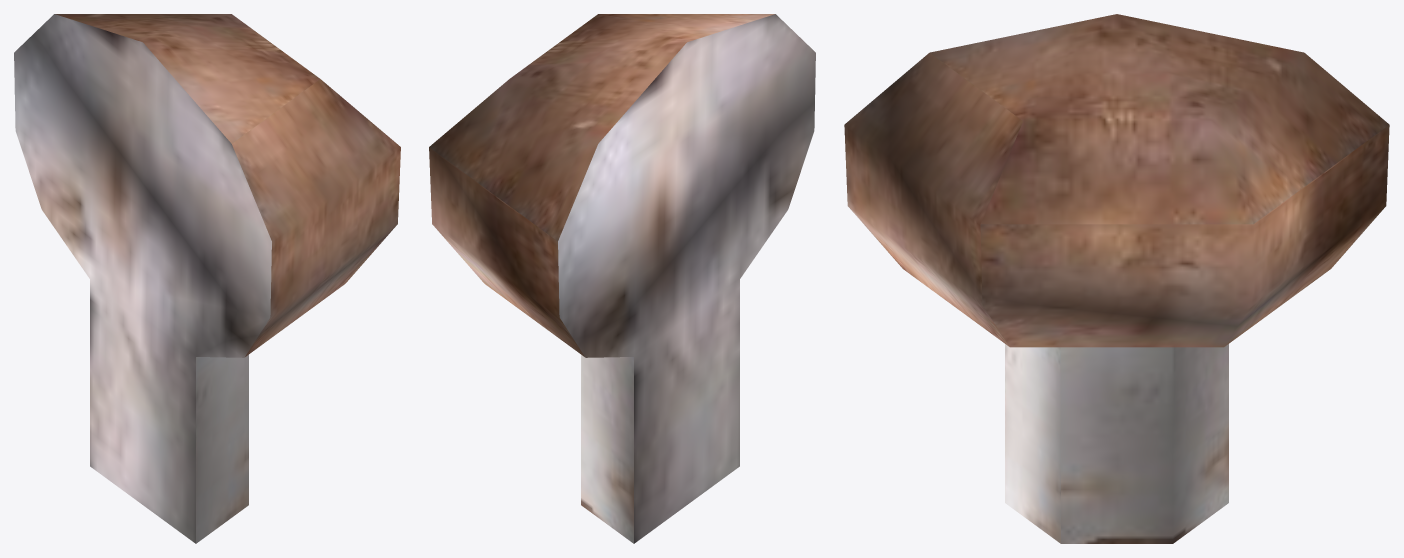
The model's file is Mushrooms_01.glb.
3 renders of one model, left to right at view 1: azimuth 30°, elevation 25°; view 2: azimuth 150°, elevation 25°; view 3: azimuth 270°, elevation 25°, orthographic. The views are drawn at different scales.
Parts seen in each view (by area): view 1: Mushrooms_01; view 2: Mushrooms_01; view 3: Mushrooms_01.
Part boxes in pixels (<box>): Mushrooms_01: <box>14,14,400,543</box>; Mushrooms_01: <box>429,14,815,543</box>; Mushrooms_01: <box>844,14,1389,543</box>.
Size of the model in its own units: 0.0341 by 0.078 by 0.0788.
1 material, 1 textured.
